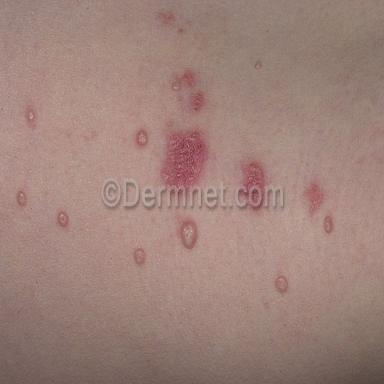Molluscum-Contagiosum: (180, 220, 198, 250), (275, 275, 288, 293), (134, 249, 146, 266), (57, 212, 69, 228), (324, 216, 333, 233), (137, 131, 147, 146), (17, 191, 26, 207), (28, 110, 35, 121), (172, 82, 179, 91), (255, 62, 261, 69)
